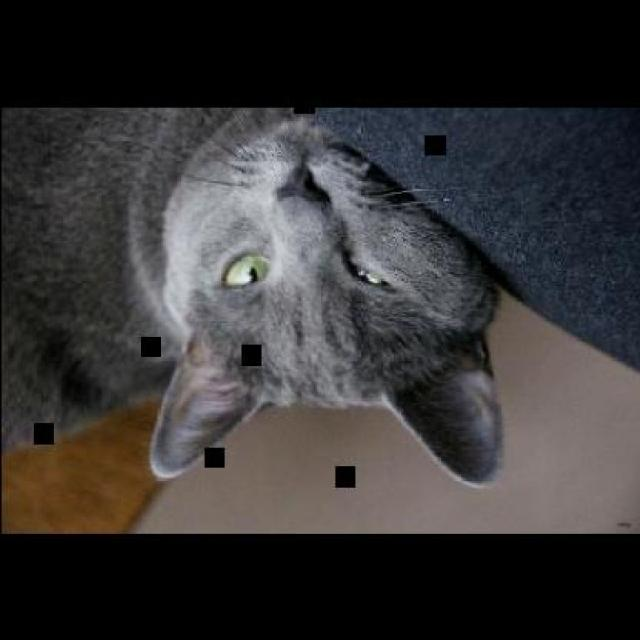unauthorized: (0, 105, 505, 489)
